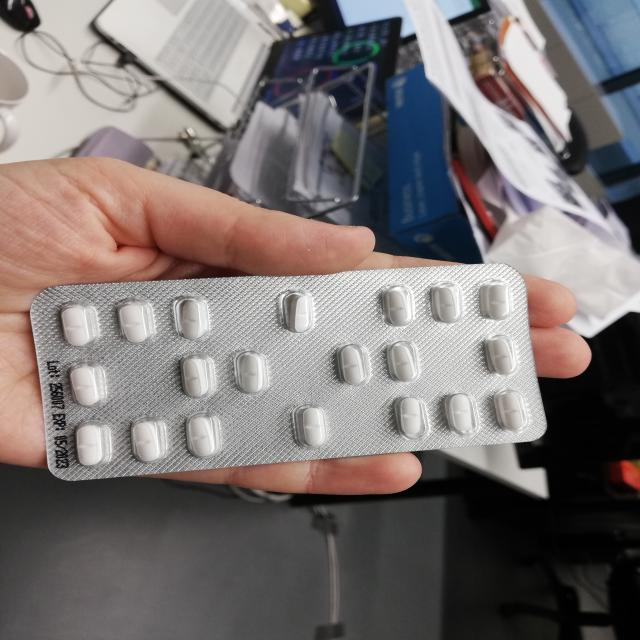Pill: (224, 346, 278, 398), (370, 278, 417, 334), (384, 393, 434, 445), (48, 299, 98, 350), (376, 336, 424, 389), (108, 297, 158, 347), (483, 388, 537, 434), (422, 275, 463, 335), (276, 286, 322, 339), (168, 292, 213, 346), (68, 421, 113, 474), (435, 389, 482, 439), (124, 416, 167, 470), (172, 350, 215, 404), (474, 332, 522, 379), (67, 360, 111, 411), (180, 411, 222, 463), (476, 274, 515, 329), (293, 401, 335, 450), (330, 342, 370, 392)
